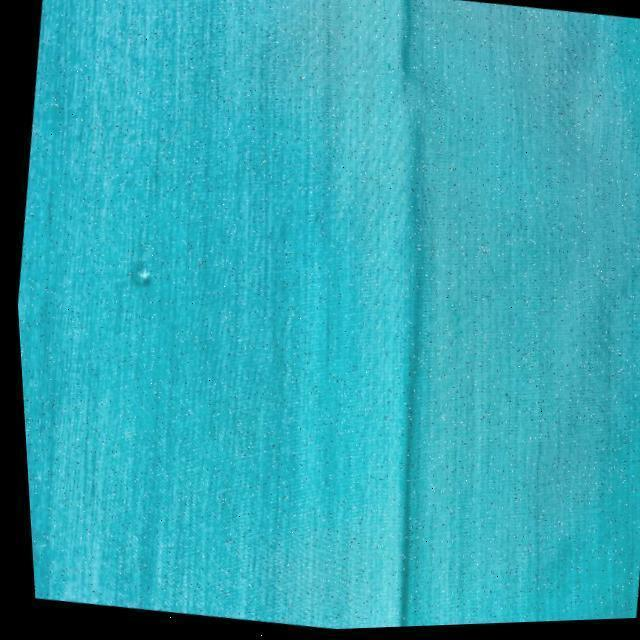broken_yarn: (386, 1, 427, 629)
